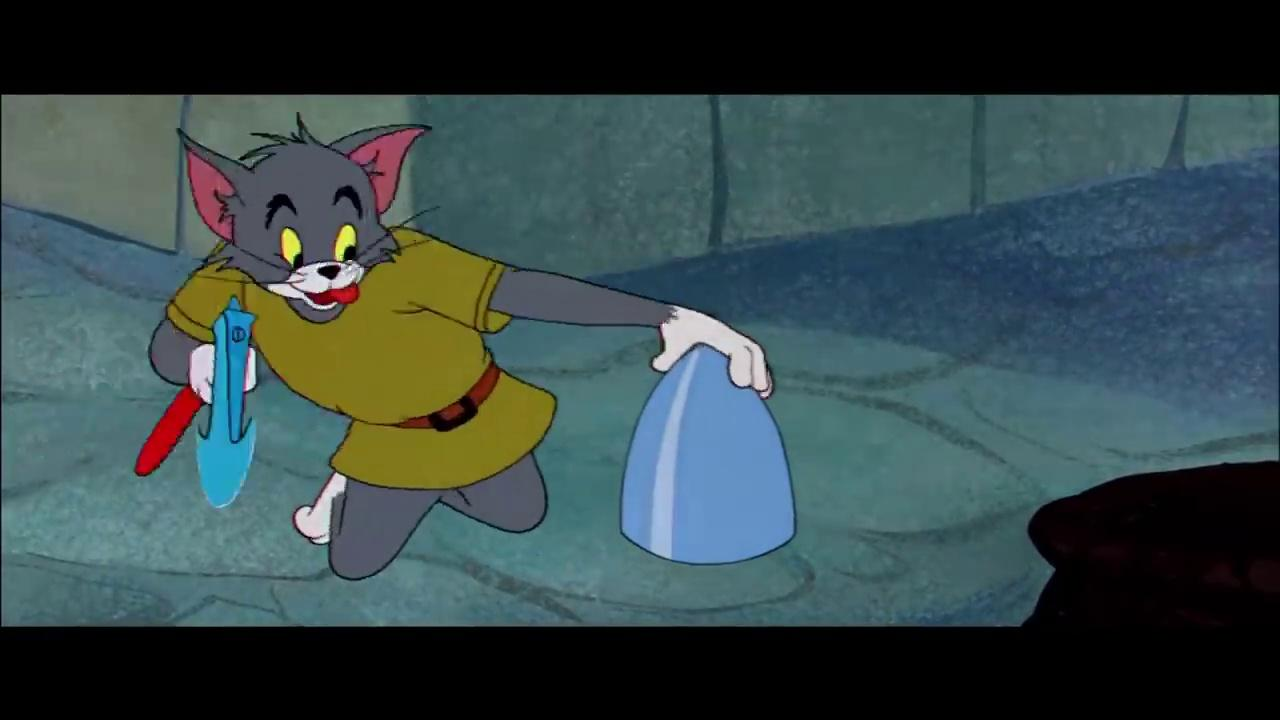Tom: (148, 110, 776, 582)
